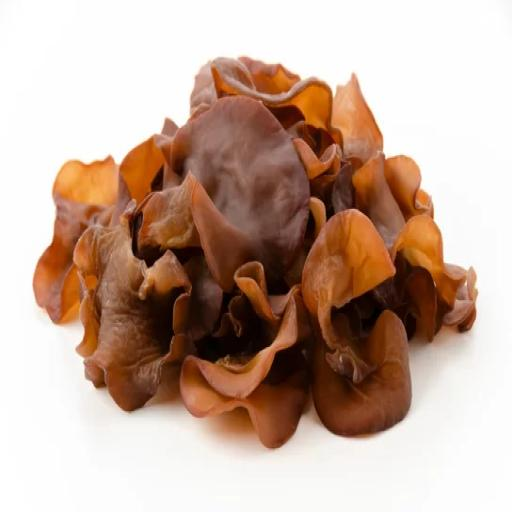Wood Ear Mushroom: (35, 47, 492, 445)
